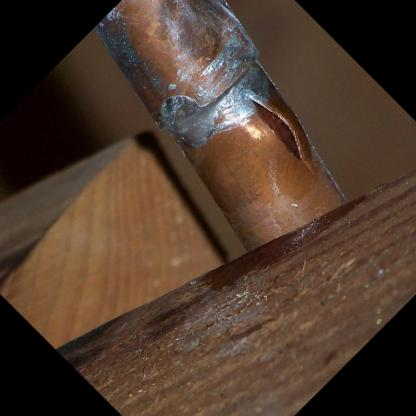burst: (220, 88, 315, 176)
